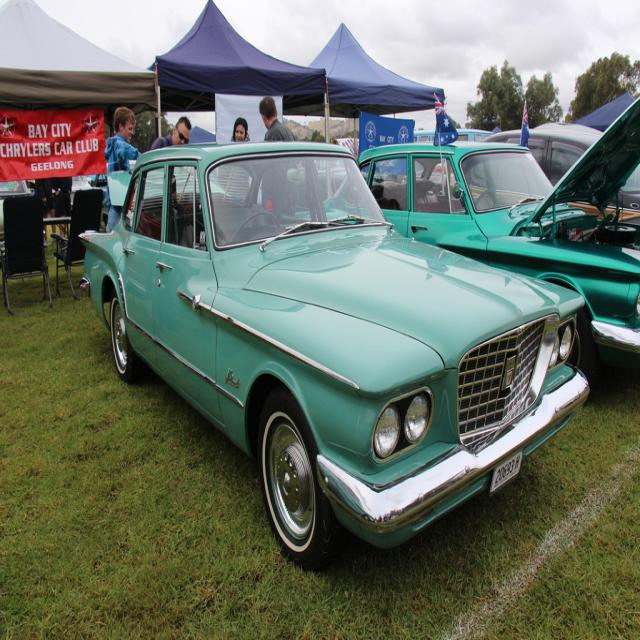car: (75, 139, 591, 572)
